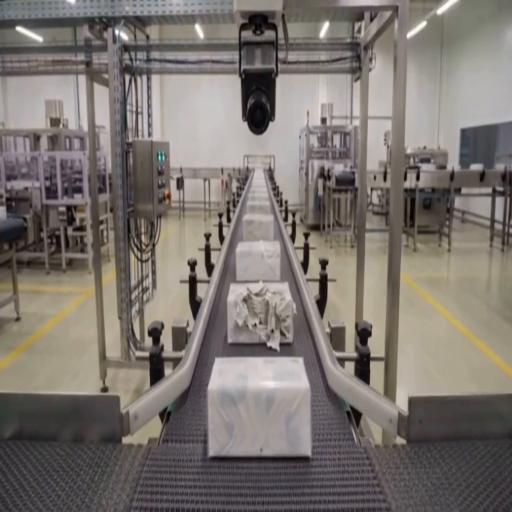defective: (208, 357, 310, 459), (226, 280, 295, 346)
good: (235, 240, 282, 282), (242, 212, 276, 244), (246, 171, 271, 199), (245, 195, 272, 215), (469, 163, 484, 171)
